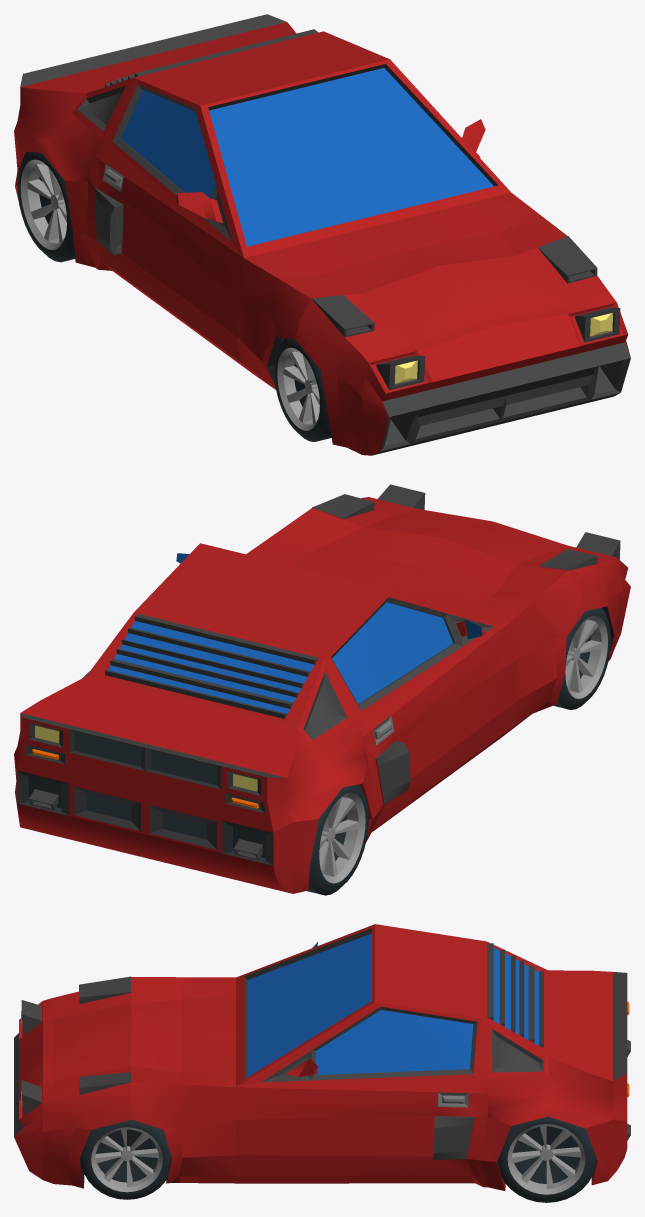
The model's file is SporCar.fbx.
The picture shows the model from 3 angles, top to bottom: view 1: azimuth 30°, elevation 25°; view 2: azimuth 150°, elevation 25°; view 3: azimuth 270°, elevation 25°; orthographic projection. The views are drawn at different scales.
Visible parts, largest first — view 1: SporCar, SporCarWheelBackR, SporCarWheelFrontR; view 2: SporCar, SporCarWheelBackR, SporCarWheelFrontR; view 3: SporCar, SporCarWheelBackL, SporCarWheelFrontL.
Boxes of the visible parts, x1,y1,x2,y2 form: SporCar: [14, 14, 630, 455]; SporCarWheelBackR: [17, 151, 75, 262]; SporCarWheelFrontR: [274, 338, 331, 441]; SporCar: [14, 484, 630, 893]; SporCarWheelBackR: [307, 784, 368, 895]; SporCarWheelFrontR: [553, 607, 610, 709]; SporCar: [14, 924, 630, 1190]; SporCarWheelBackL: [497, 1116, 596, 1202]; SporCarWheelFrontL: [80, 1119, 171, 1199].
Bounding box in the file's own units: 5.72 × 3.83 × 11.85.
